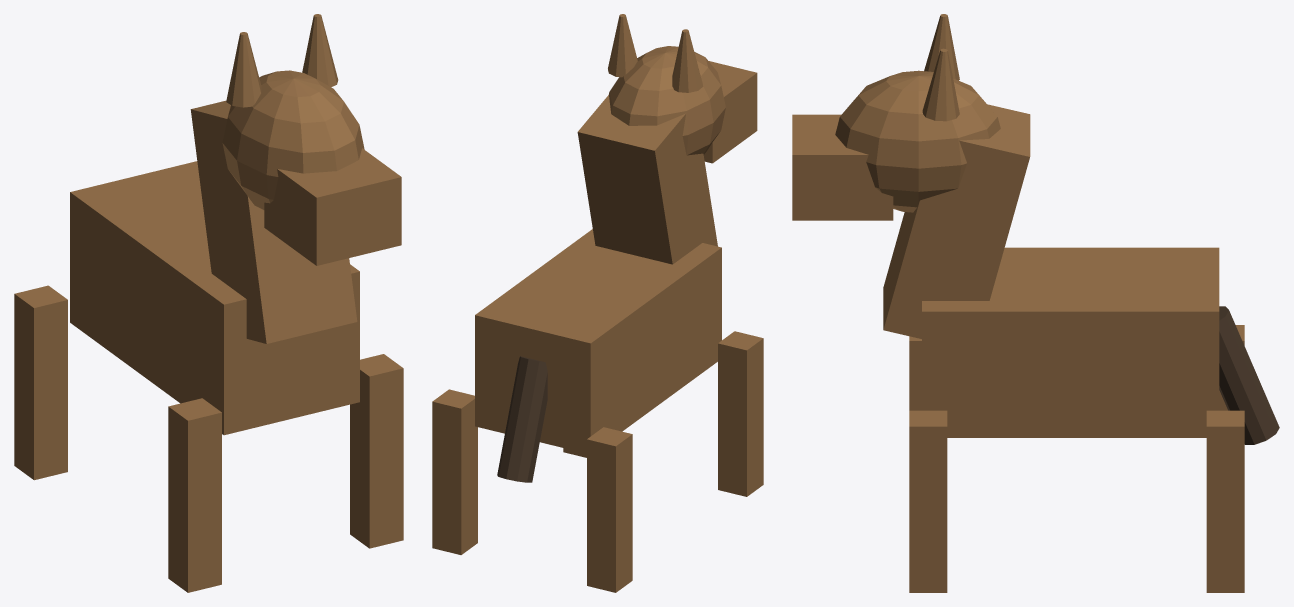
Rendered from good.glb.
3 views of the same model, side by side, from view 1: azimuth 30°, elevation 25°; view 2: azimuth 150°, elevation 25°; view 3: azimuth 270°, elevation 25° (orthographic). The views are drawn at different scales.
Visible parts, largest first — view 1: Ear; view 2: Ear, Tail; view 3: Ear, Tail.
Part boxes in pixels (x1,y1,x2,y2): Ear: (14, 14, 403, 592); Ear: (432, 14, 763, 592); Tail: (497, 356, 547, 482); Ear: (792, 14, 1244, 592); Tail: (1219, 306, 1279, 444).
Bounding box in the file's own units: 0.475 × 1.11 × 0.9628.
